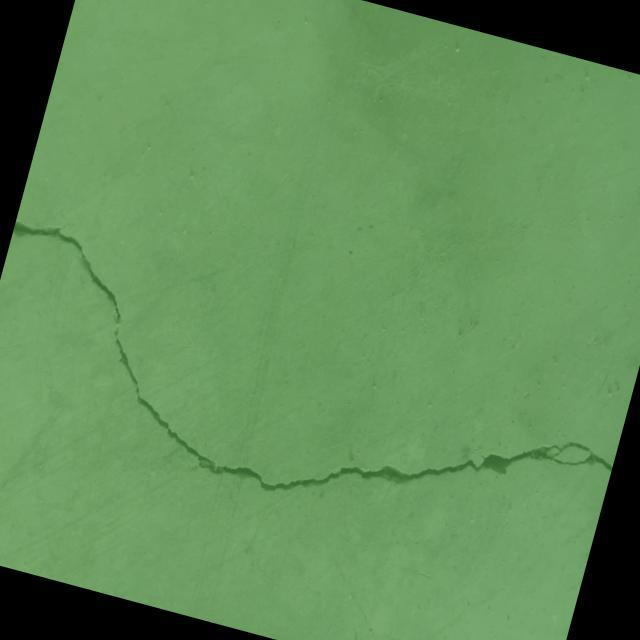crack: (0, 216, 634, 576)
